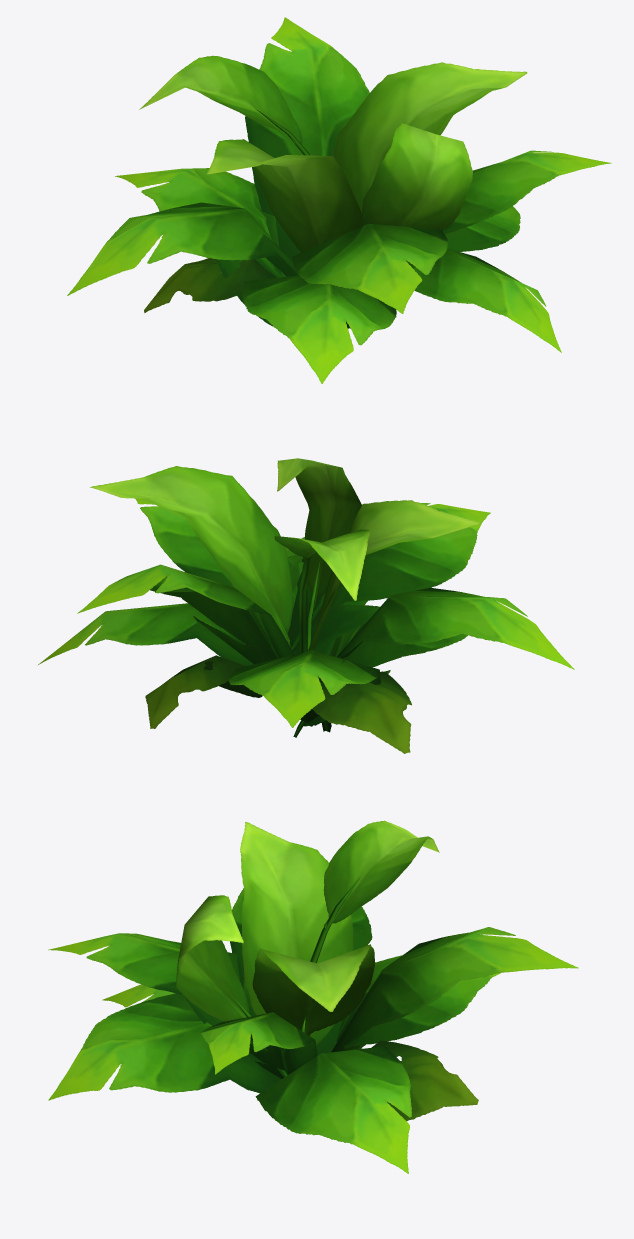
The model's file is Yegesl_zhiwu04.FBX.
3 renders of one model, top to bottom at view 1: azimuth 30°, elevation 25°; view 2: azimuth 150°, elevation 25°; view 3: azimuth 270°, elevation 25°, orthographic. The views are drawn at different scales.
Parts seen in each view (by area): view 1: Yegesl_zhiwu04; view 2: Yegesl_zhiwu04; view 3: Yegesl_zhiwu04.
Boxes of the visible parts, bbox=[...] form: Yegesl_zhiwu04: bbox=[67, 17, 611, 383]; Yegesl_zhiwu04: bbox=[38, 458, 574, 753]; Yegesl_zhiwu04: bbox=[48, 820, 578, 1173].
Bounding box in the file's own units: 106 × 105 × 52.74.
